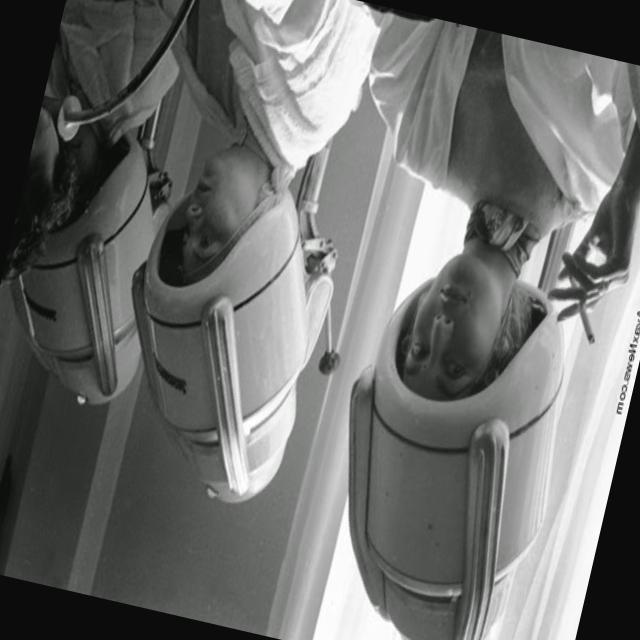cigarette: (570, 307, 606, 348)
